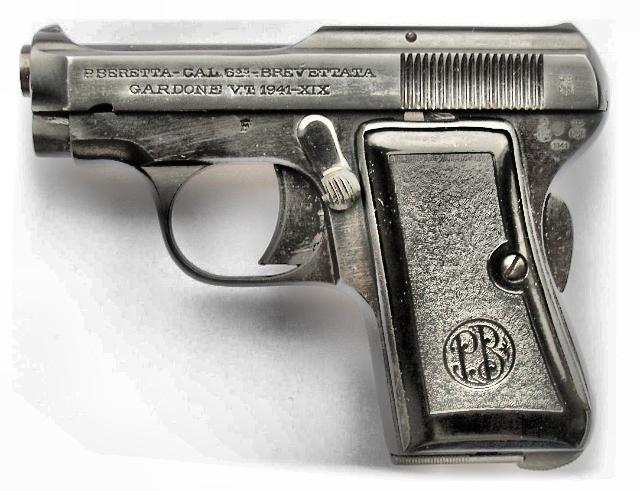pistol: (18, 5, 600, 477)
